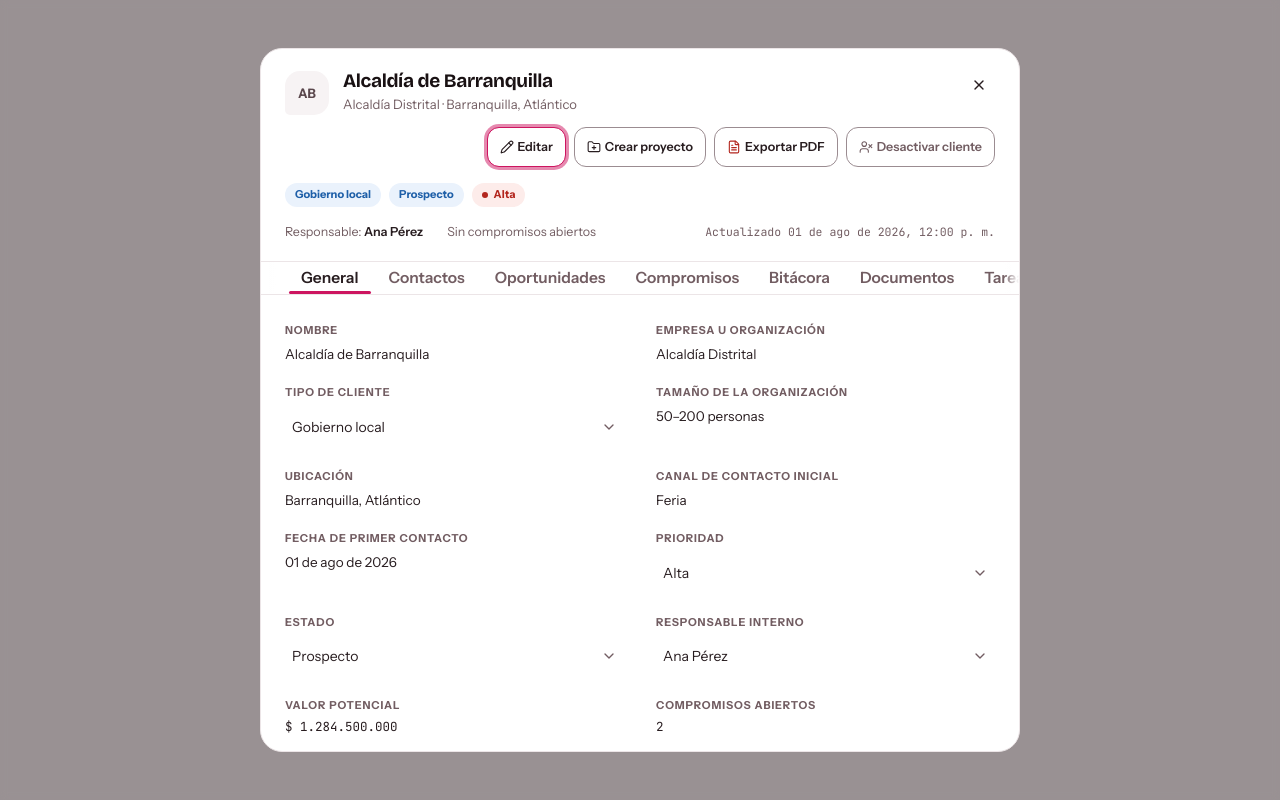
it: ClientSheet — General tab inline editing (QA audit finding #3) › opens the date editor with the calendar day as YYYY-MM-DD, ready to save
Click the button "01 de ago de 2026".
click(341, 562)  # box left=279, top=551, right=618, bottom=573
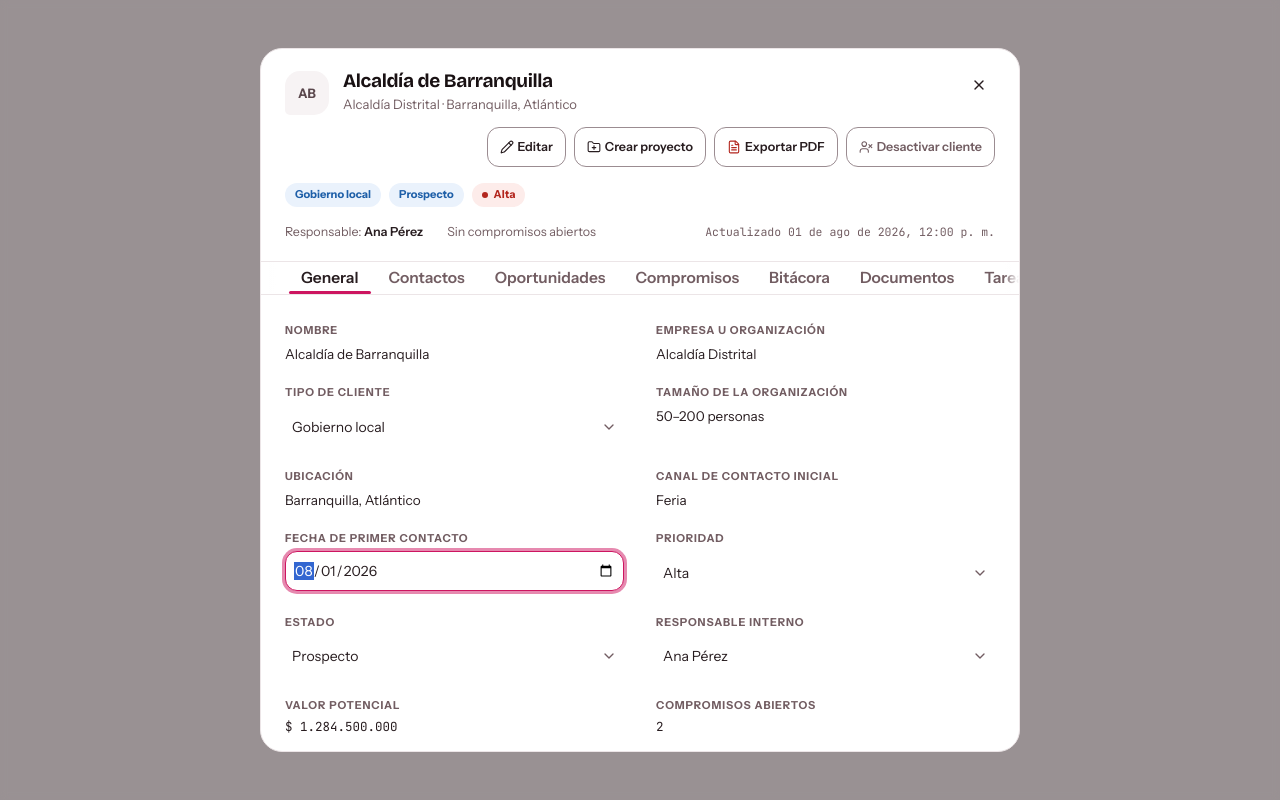
Expected: the date field showing "2026-08-01" is shown, left=285, top=551, right=624, bottom=591
